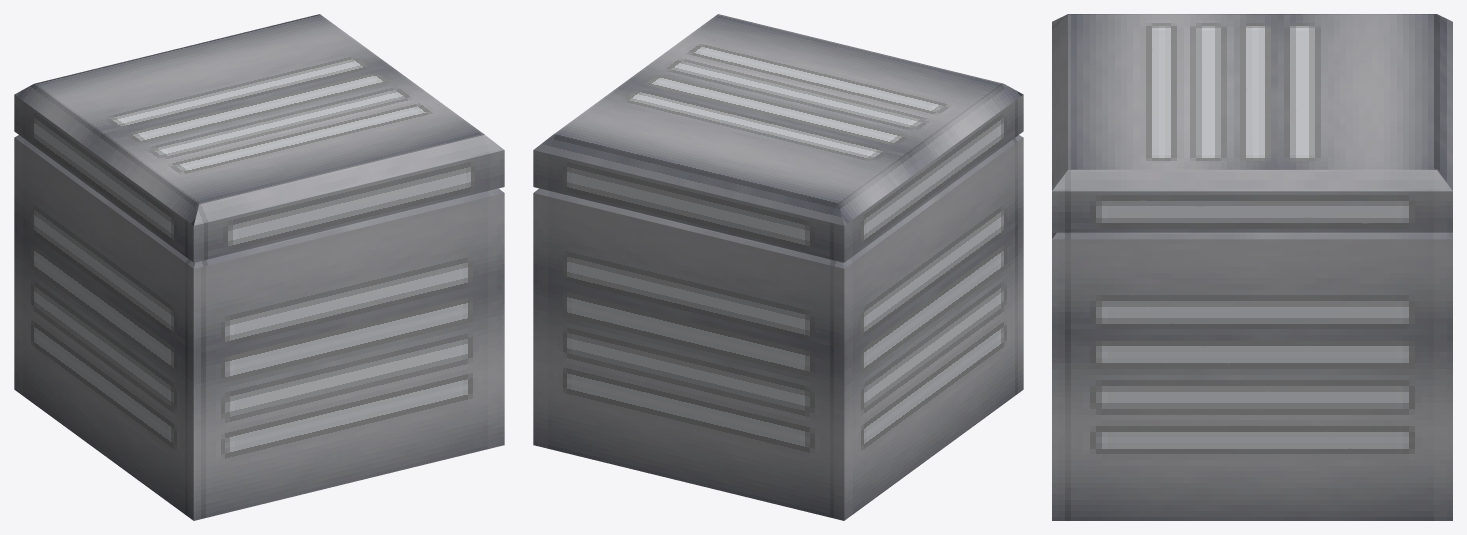
The model's file is metalbox-closed.fbx.
The picture shows the model from 3 angles, left to right: view 1: azimuth 30°, elevation 25°; view 2: azimuth 150°, elevation 25°; view 3: azimuth 270°, elevation 25°; orthographic projection. The views are drawn at different scales.
Visible parts, largest first — view 1: Box; view 2: Box; view 3: Box.
Part boxes in pixels (x1,y1,x2,y2): Box: (14,14,504,520); Box: (533,14,1023,520); Box: (1052,14,1452,520).
Bounding box in the file's own units: 122 × 122 × 116.
